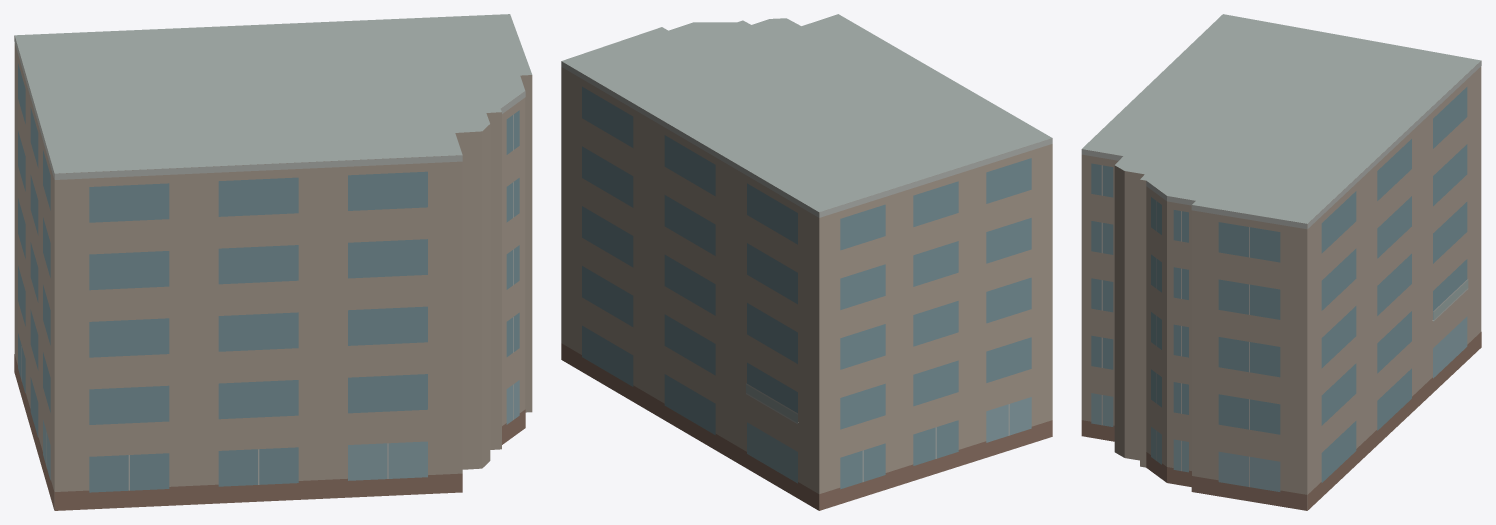
The model's file is survey-upis-32668840.glb.
3 views of the same model, side by side, from view 1: azimuth 30°, elevation 25°; view 2: azimuth 150°, elevation 25°; view 3: azimuth 270°, elevation 25° (orthographic). The views are drawn at different scales.
Visible parts, largest first — view 1: survey-upis-32668840.tmp; view 2: survey-upis-32668840.tmp; view 3: survey-upis-32668840.tmp.
Part boxes in pixels (bbox=[...]): survey-upis-32668840.tmp: bbox=[14, 14, 532, 510]; survey-upis-32668840.tmp: bbox=[561, 14, 1052, 510]; survey-upis-32668840.tmp: bbox=[1081, 14, 1481, 510].
Bounding box in the file's own units: 20.08 × 12.8 × 16.17.
